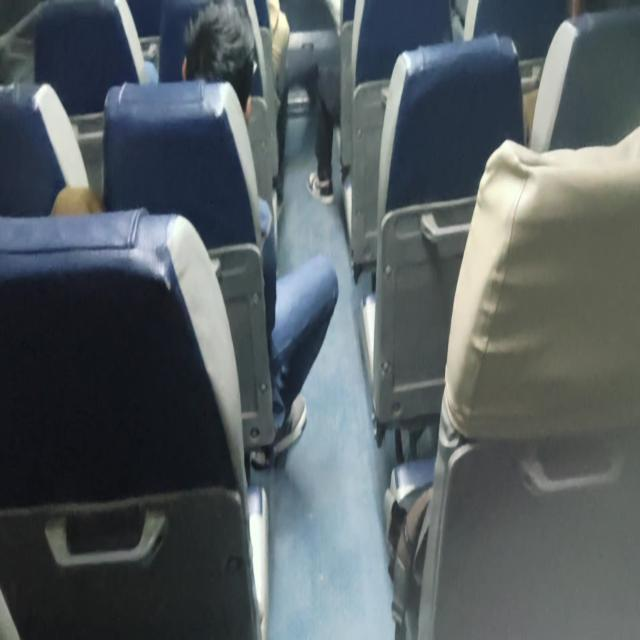person: (180, 4, 339, 468), (181, 3, 275, 240), (181, 2, 255, 122)
